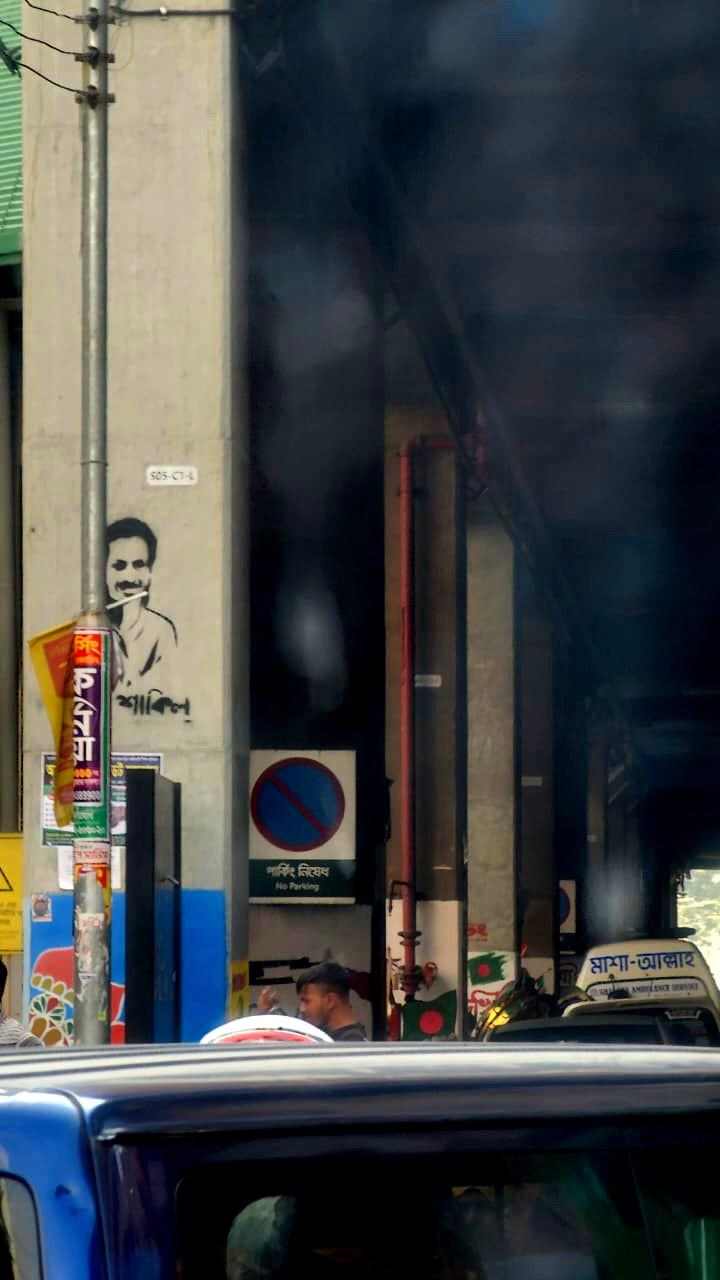No Parking: (242, 744, 356, 902)
